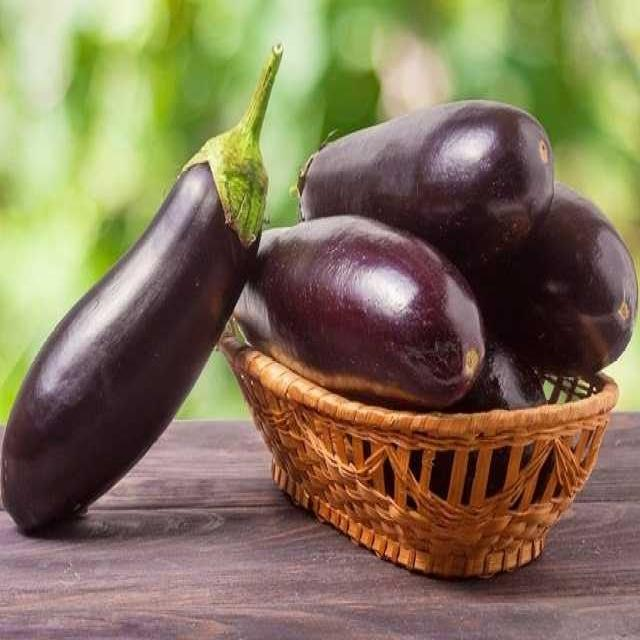Eggplant-r1Ob: (1, 45, 282, 531), (234, 216, 485, 409), (299, 100, 554, 269)
